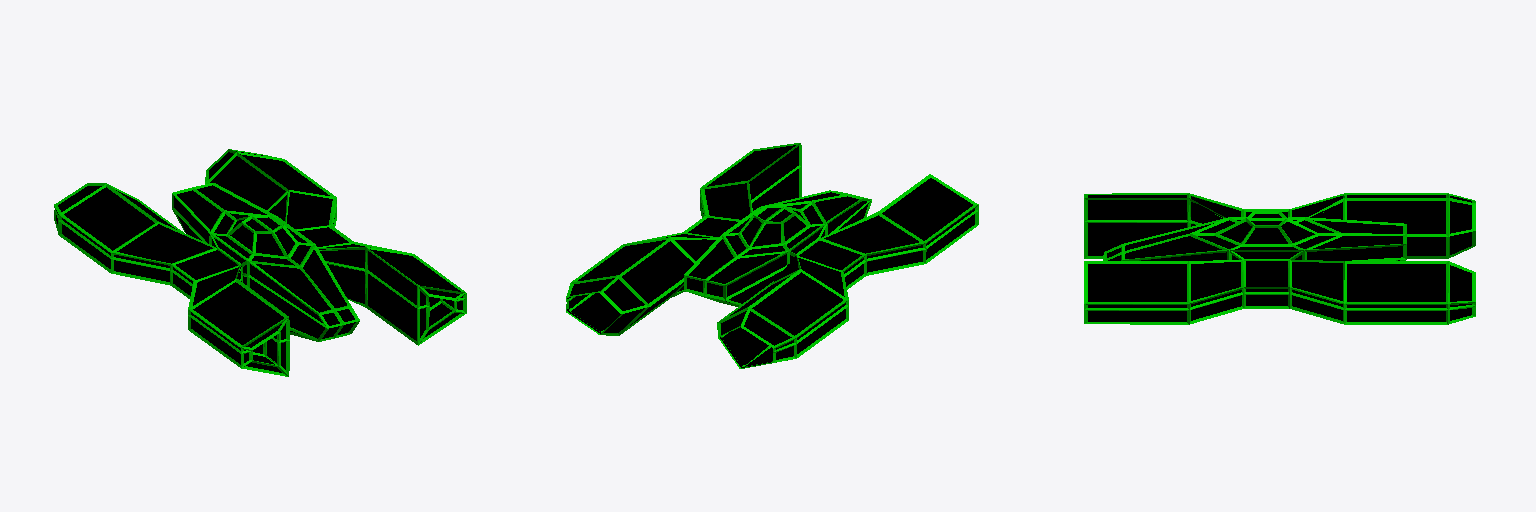
Rendered from boss_01.obj.
The picture shows the model from 3 angles: view 1: azimuth 30°, elevation 25°; view 2: azimuth 150°, elevation 25°; view 3: azimuth 270°, elevation 25°; orthographic projection.
Parts seen in each view (by area): view 1: Cube, Cube.001; view 2: Cube, Cube.001; view 3: Cube, Cube.001.
Part boxes in pixels (x1,y1,x2,y2): Cube: (56,151,462,372); Cube.001: (54,149,466,376); Cube: (567,145,974,367); Cube.001: (566,143,978,368); Cube: (1088,195,1471,321); Cube.001: (1084,193,1475,324).
Size of the model in its own units: 2.17 by 0.6867 by 3.25.